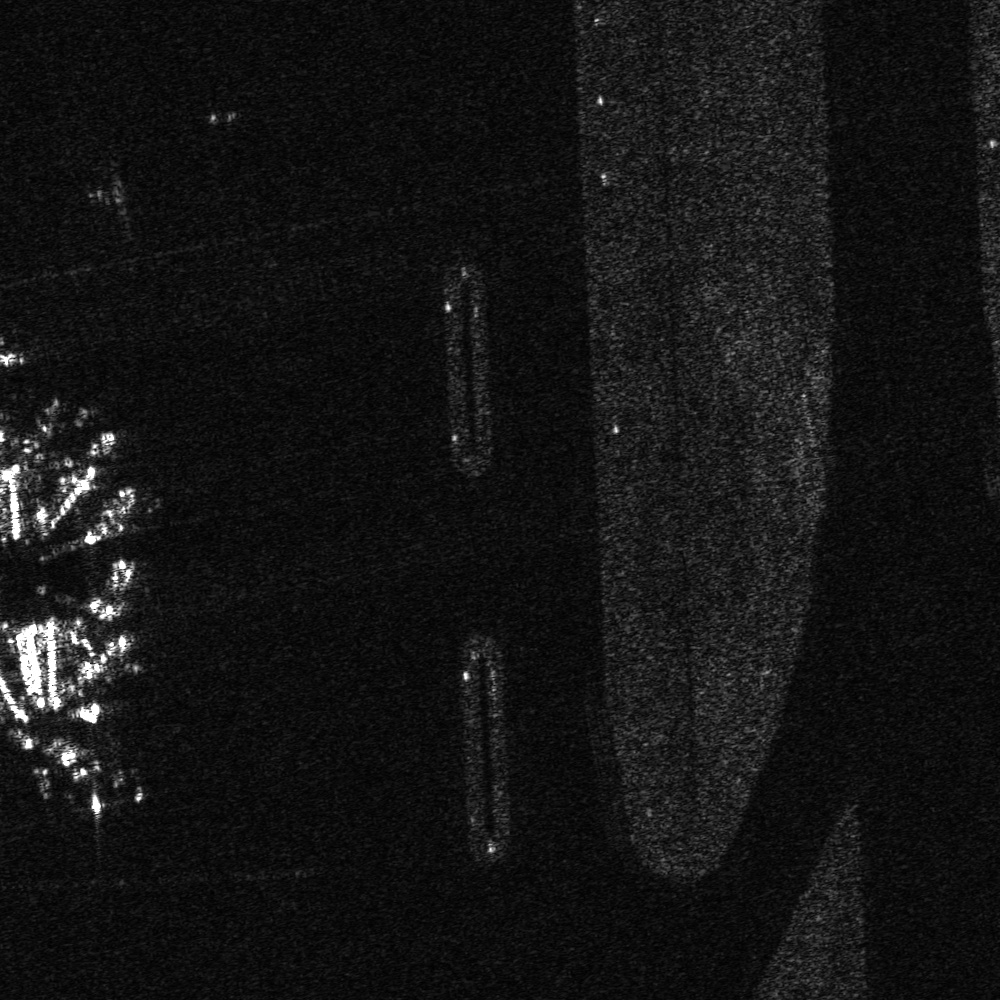Boeing737: (23, 729, 137, 829)
